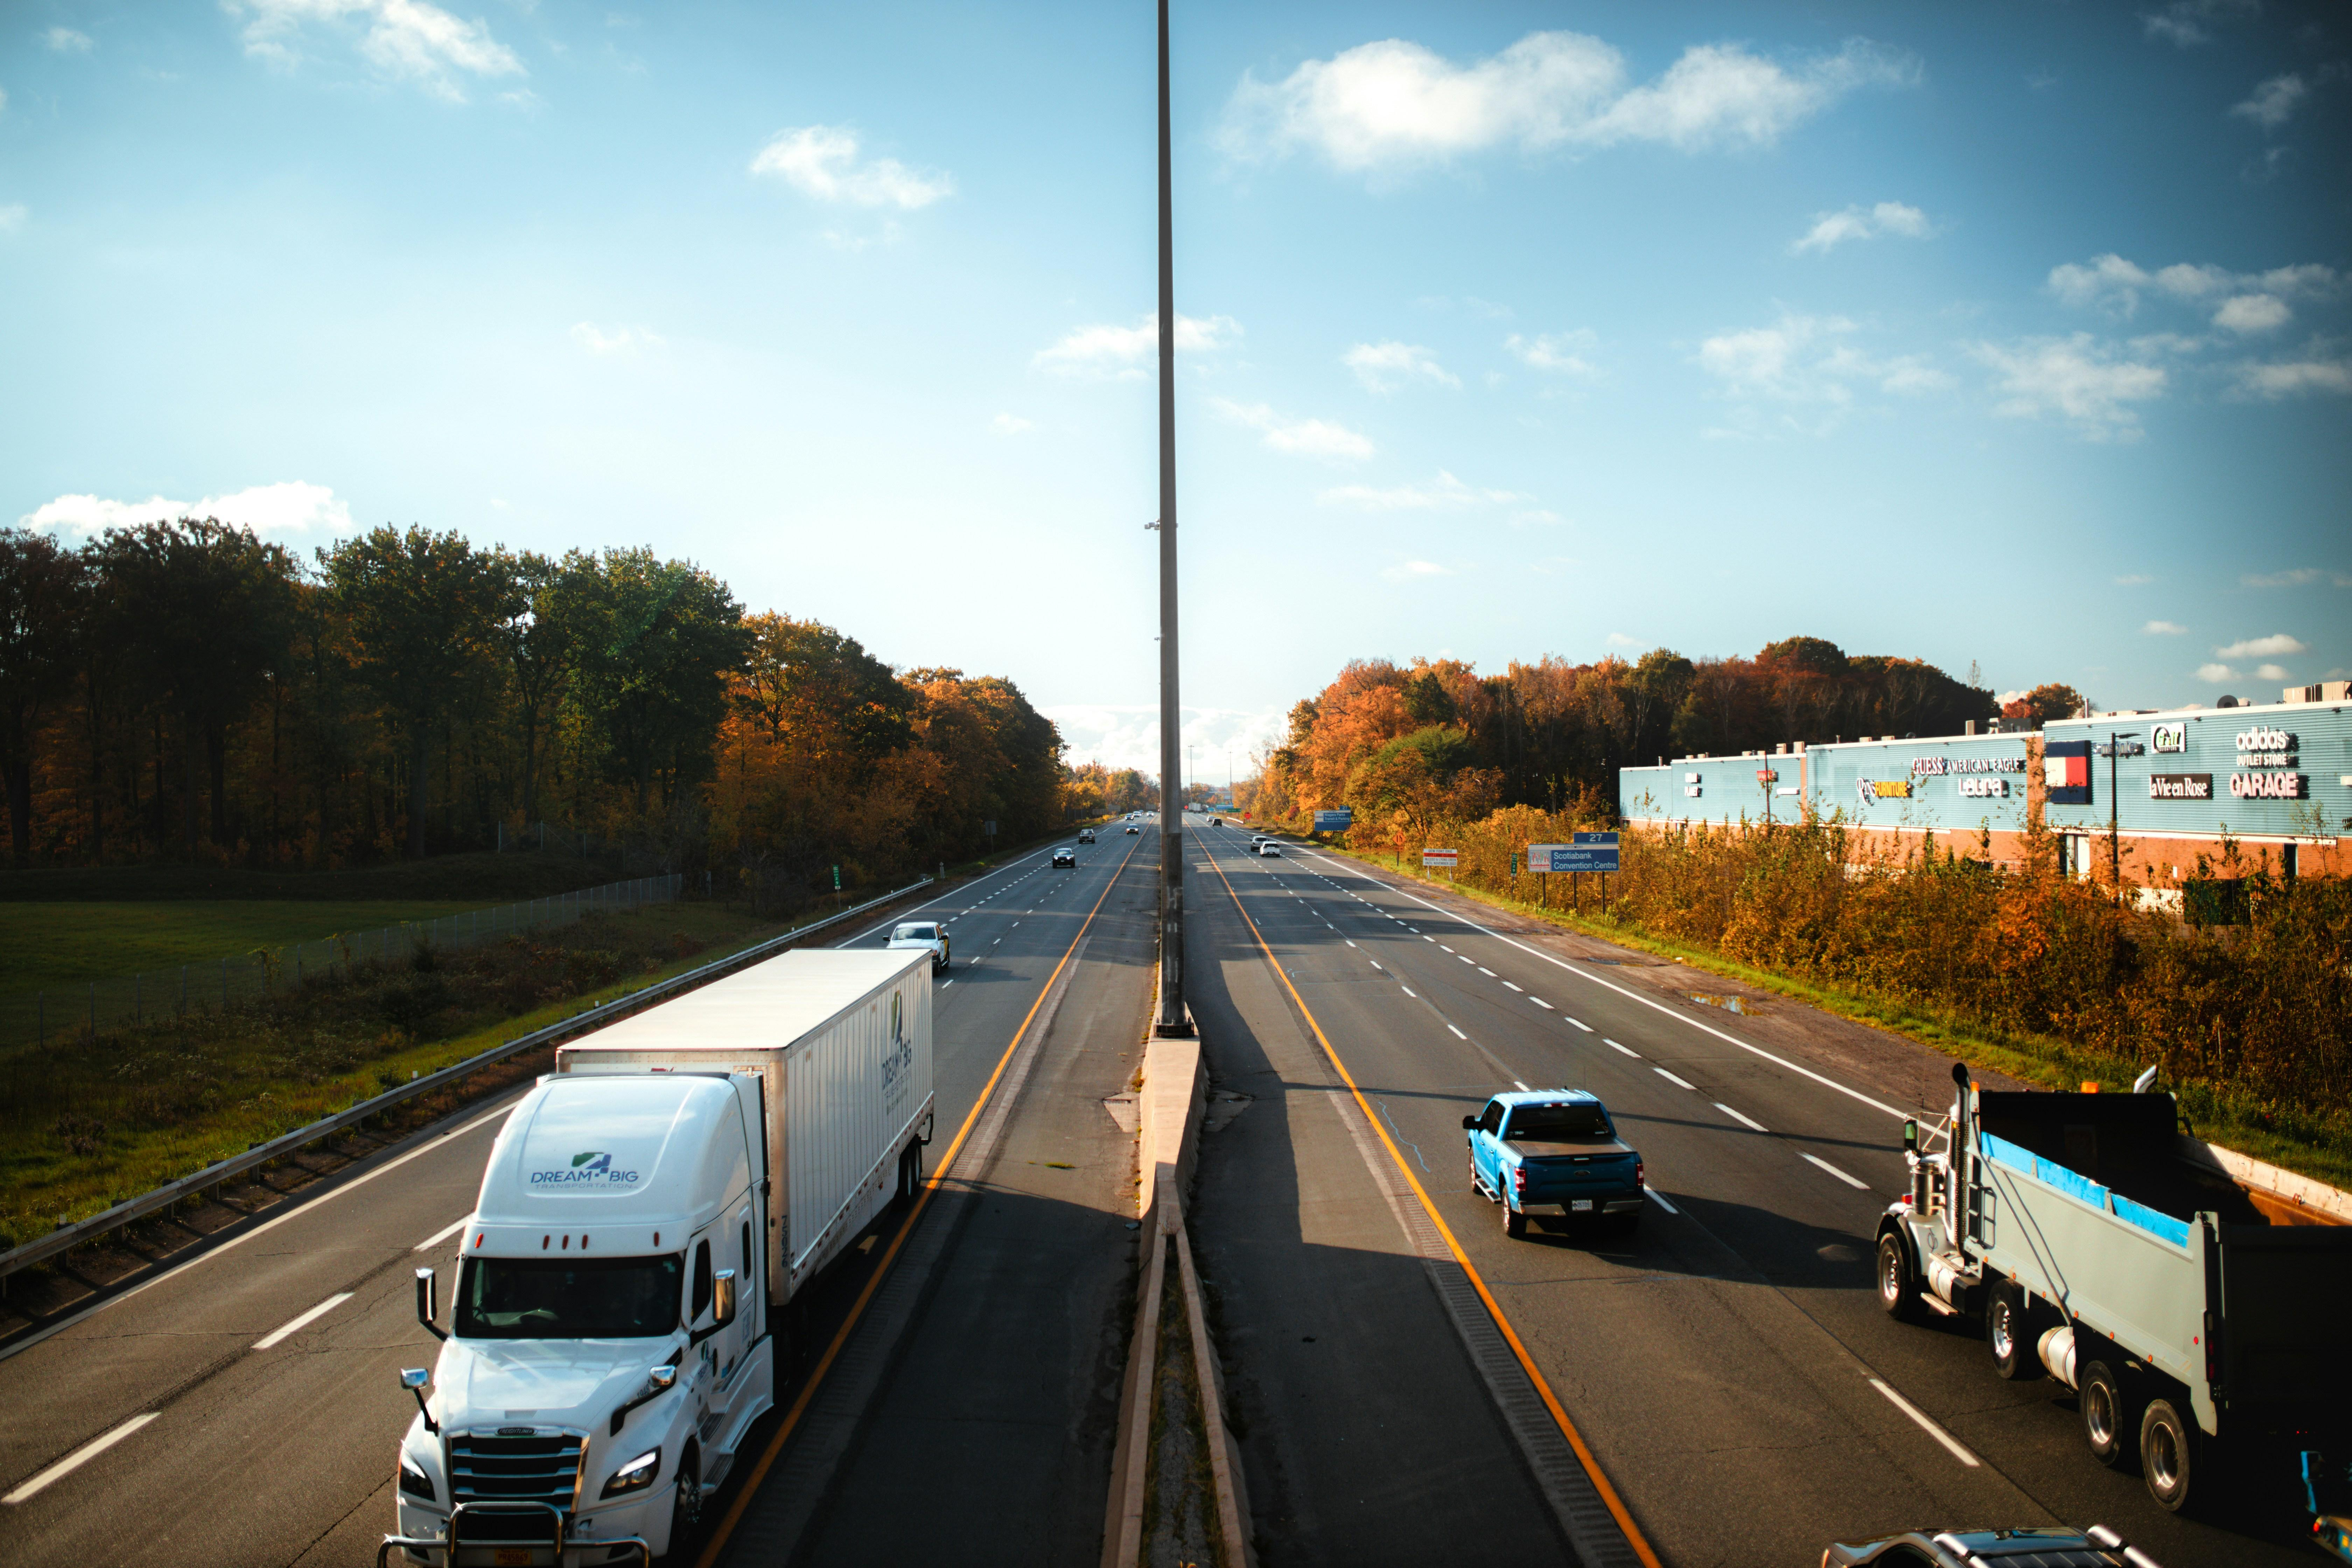Car: (1463, 1088, 1645, 1237), (1822, 1526, 2156, 1568), (887, 920, 948, 971), (1052, 847, 1076, 868), (1256, 840, 1283, 857), (1078, 828, 1095, 843), (1251, 835, 1265, 852), (1125, 822, 1139, 835), (1209, 817, 1221, 826)
Trucks: (387, 948, 933, 1568), (1876, 1067, 2352, 1508)
